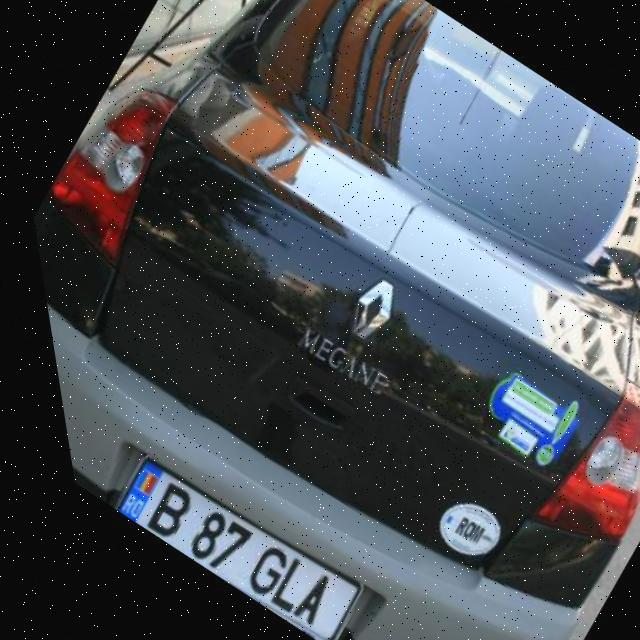license_plate: (88, 445, 354, 640)
